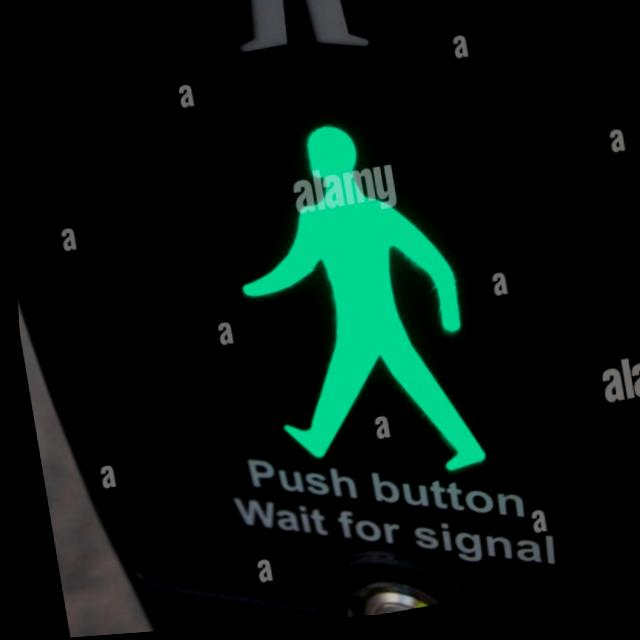green_light: (205, 97, 514, 529)
